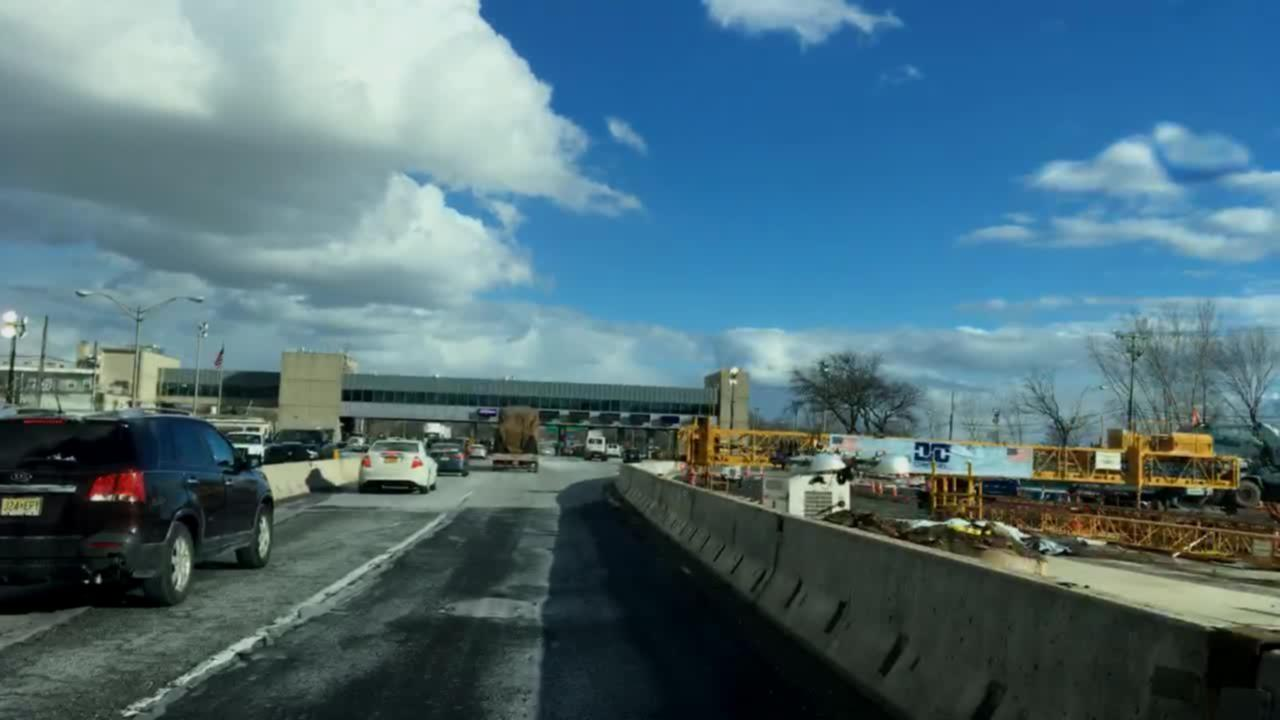kia: (9, 469, 35, 487)
